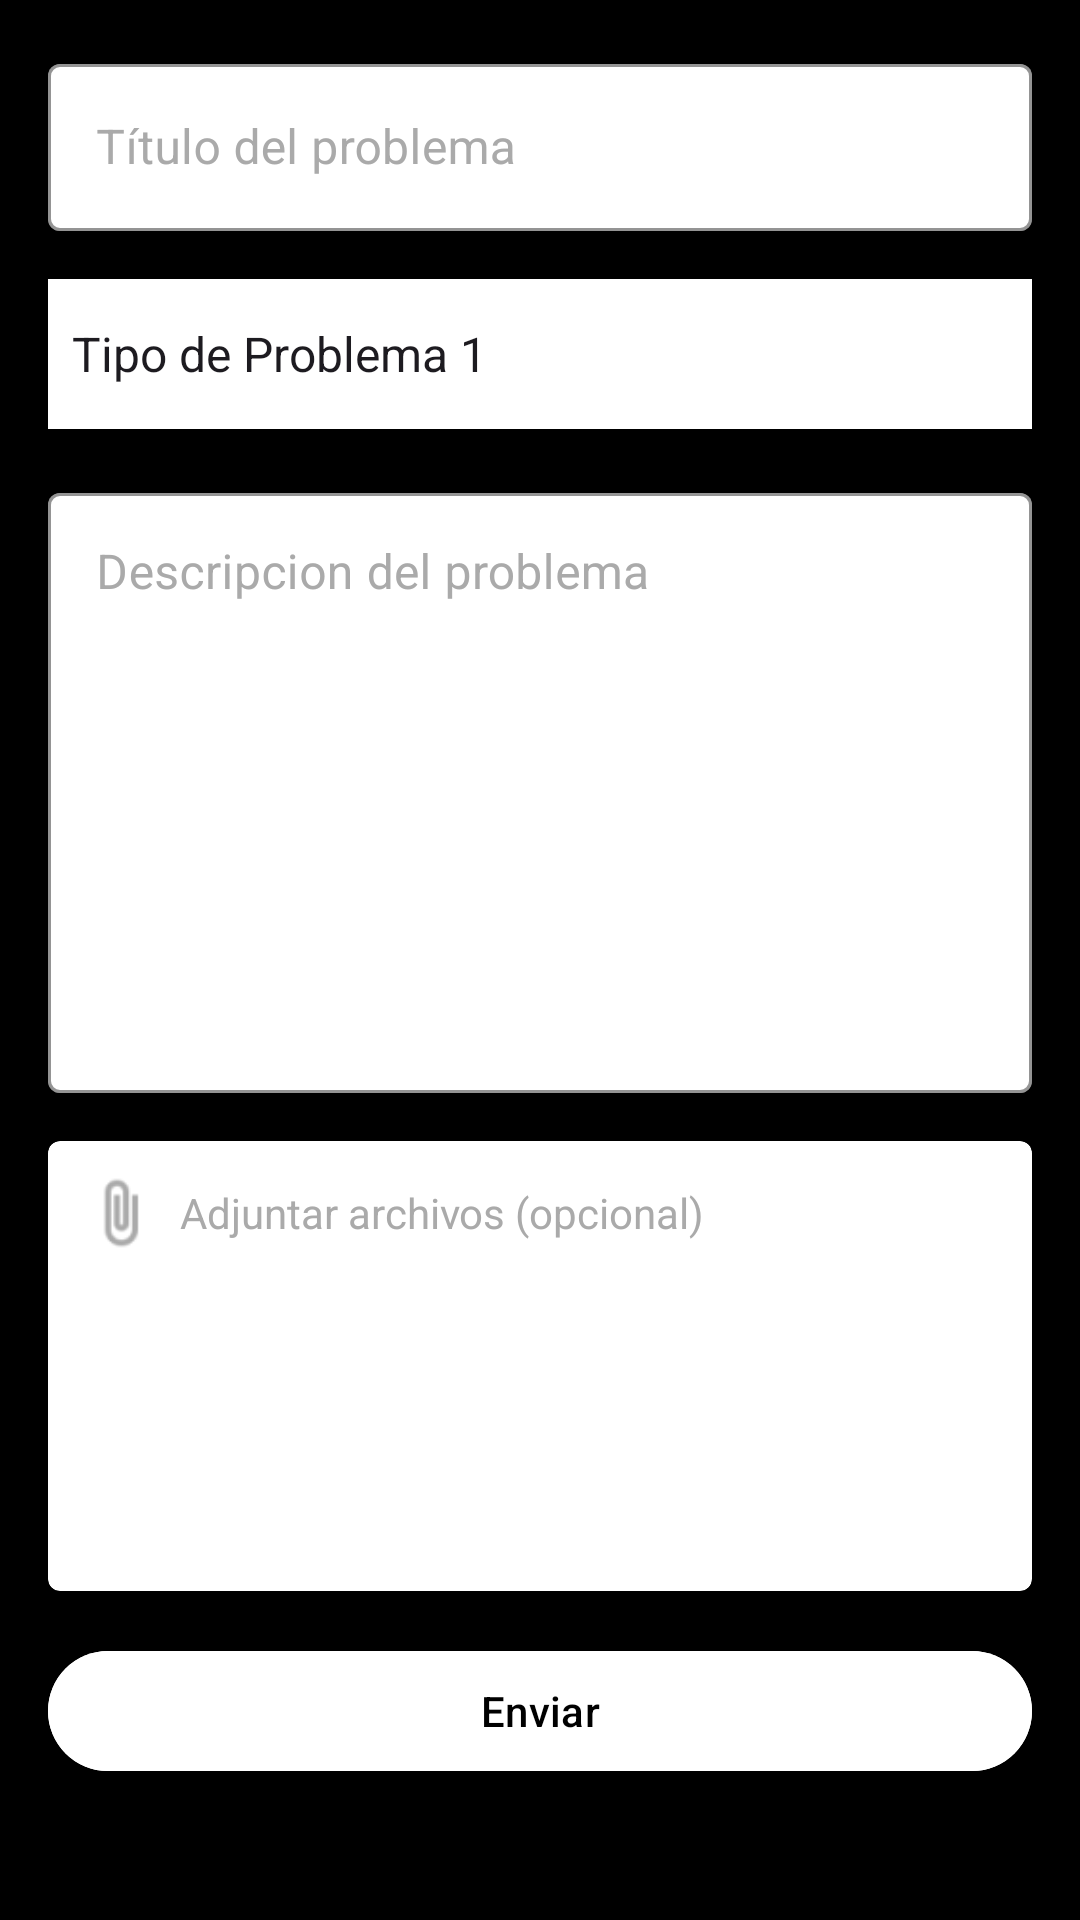

Screen size 1080x1920. Icon name, then its center in pixels as (x,y):
attach file: (121,1213)
